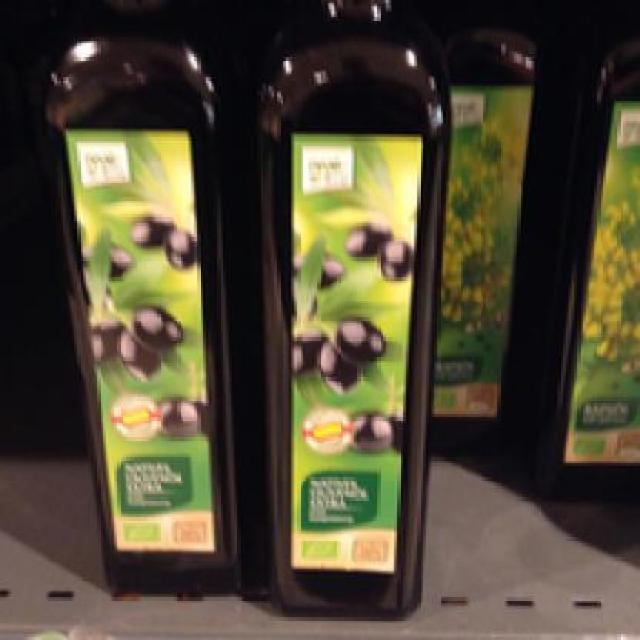Oil: (241, 0, 455, 615), (36, 0, 250, 589)
